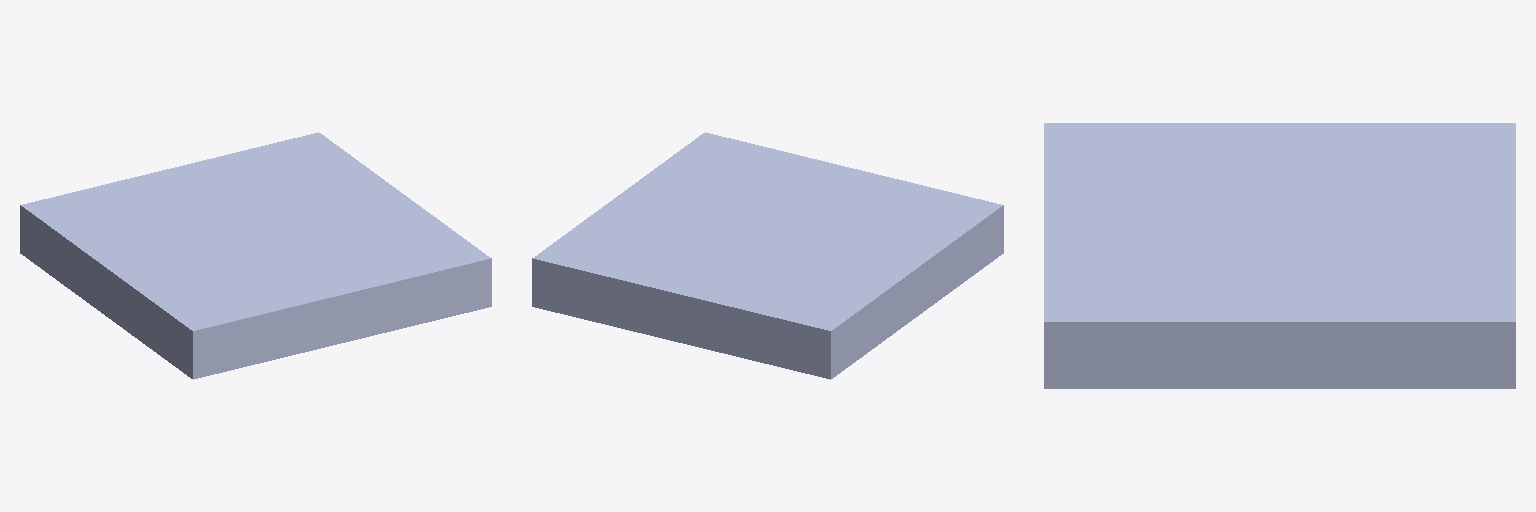
robot.urdf — wall-room-rough:
<?xml version="1.0" encoding="utf-8"?>
<!-- This URDF was automatically created by SolidWorks to URDF Exporter! Originally created by [author] ([email redacted]) 
     Commit Version: 1.5.1-0-g916b5db  Build Version: 1.5.7152.31018
     For more information, please see http://wiki.ros.org/sw_urdf_exporter -->
<robot
  name="wall-room-rough">
  <link
    name="base_link">
    <inertial>
      <origin
        xyz="3.4199E-15 9.4001E-15 2.6266"
        rpy="0 0 0" />
      <mass
        value="72272" />
      <inertia
        ixx="2047100"
        ixy="3.1237E-10"
        ixz="-7.1616E-10"
        iyy="2005500"
        iyz="9.3517E-11"
        izz="4020500" />
    </inertial>
    <visual>
      <origin
        xyz="0 0 0"
        rpy="0 0 0" />
      <geometry>
        <mesh
          filename="package://wall-room-rough/meshes/base_link.STL" />
      </geometry>
      <material
        name="">
        <color
          rgba="0.79216 0.81961 0.93333 1" />
      </material>
    </visual>
    <collision>
      <origin
        xyz="0 0 0"
        rpy="0 0 0" />
      <geometry>
        <mesh
          filename="package://wall-room-rough/meshes/base_link.STL" />
      </geometry>
    </collision>
  </link>
</robot>

--- What the picture shows (computed from the rendered views, not written in the file) ---
3 views of the same robot in one strip: view 1: azimuth 30°, elevation 25°; view 2: azimuth 150°, elevation 25°; view 3: azimuth 270°, elevation 25° (orthographic).
Robot: wall-room-rough — 1 links, 0 joints (none); root link base_link; default pose: all joints at 0.
Links seen in each view (by area): view 1: base_link; view 2: base_link; view 3: base_link.
Boxes of the visible links, <box> form: base_link: <box>20,132,491,379</box>; base_link: <box>532,132,1003,379</box>; base_link: <box>1044,123,1515,388</box>.
Bounding box of the posed robot: 20 × 20 × 3.1 m (x, y, z).
1 mesh visuals loaded from 1 distinct referenced files (1 binary STL).